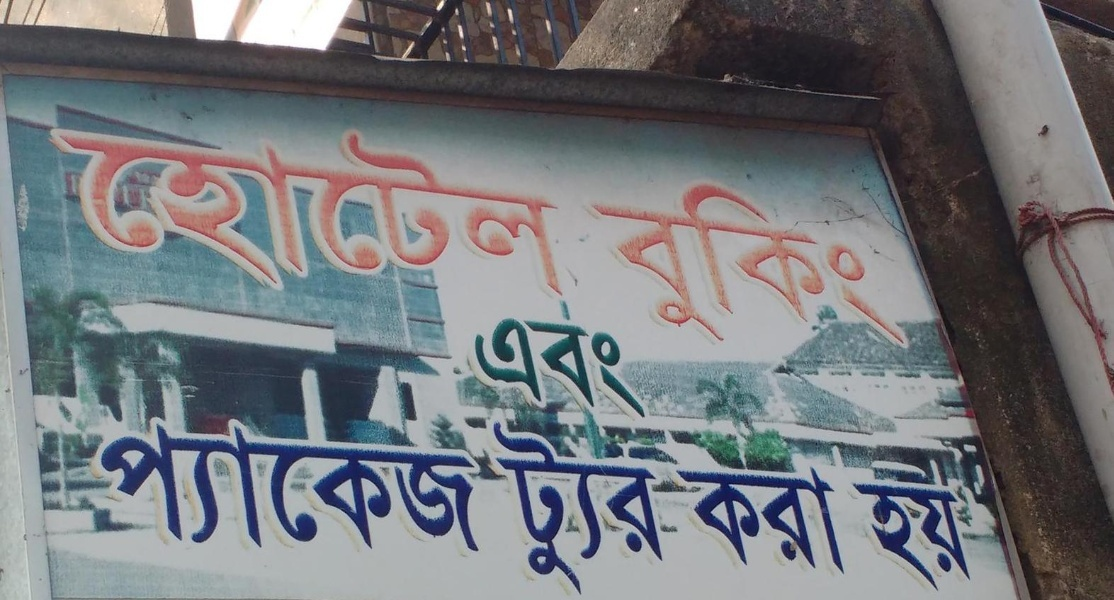text: (593, 161, 608, 354), (609, 161, 624, 354), (625, 161, 640, 354), (641, 161, 656, 354), (657, 161, 672, 354), (673, 161, 688, 354), (689, 161, 704, 354), (705, 161, 720, 354), (721, 161, 736, 354), (737, 161, 752, 354), (753, 161, 768, 354), (769, 161, 784, 354), (785, 161, 800, 354), (801, 161, 816, 354), (817, 161, 832, 354), (833, 161, 848, 354), (849, 161, 864, 354), (865, 161, 880, 354), (881, 161, 896, 354), (897, 161, 912, 354), (497, 413, 512, 598), (513, 413, 528, 598), (529, 413, 544, 598), (545, 413, 560, 598), (561, 413, 576, 598), (577, 413, 592, 598), (593, 413, 608, 598), (609, 413, 624, 598), (625, 413, 640, 598), (641, 413, 656, 598), (49, 119, 64, 303), (65, 119, 80, 303), (81, 119, 96, 303), (97, 119, 112, 303), (113, 119, 128, 303), (129, 119, 144, 303), (145, 119, 160, 303), (161, 119, 176, 303), (177, 119, 192, 303), (193, 119, 208, 303), (209, 119, 224, 303), (225, 119, 240, 303), (241, 119, 256, 303), (257, 119, 272, 303), (273, 119, 288, 303), (289, 119, 304, 303), (305, 119, 320, 303), (321, 119, 336, 303), (337, 119, 352, 303), (353, 119, 368, 303), (369, 119, 384, 303), (385, 119, 400, 303), (401, 119, 416, 303), (417, 119, 432, 303), (433, 119, 448, 303), (449, 119, 464, 303), (465, 119, 480, 303), (481, 119, 496, 303), (497, 119, 512, 303), (513, 119, 528, 303), (529, 119, 544, 303), (545, 119, 560, 303), (579, 161, 592, 354), (657, 413, 669, 598), (97, 416, 112, 559), (113, 416, 128, 559), (129, 416, 144, 559), (145, 416, 160, 559), (161, 416, 176, 559), (177, 416, 192, 559), (193, 416, 208, 559), (209, 416, 224, 559), (225, 416, 240, 559), (241, 416, 256, 559), (257, 416, 272, 559), (273, 416, 288, 559), (289, 416, 304, 559), (305, 416, 320, 559), (321, 416, 336, 559), (337, 416, 352, 559), (353, 416, 368, 559), (369, 416, 384, 559), (385, 416, 400, 559), (401, 416, 416, 559), (417, 416, 432, 559), (433, 416, 448, 559), (449, 416, 464, 559), (465, 416, 480, 559), (561, 119, 572, 303), (689, 462, 704, 583), (705, 462, 720, 583), (721, 462, 736, 583), (737, 462, 752, 583), (753, 462, 768, 583), (769, 462, 784, 583), (785, 462, 800, 583), (801, 462, 816, 583), (817, 462, 832, 583), (833, 462, 848, 583), (849, 462, 864, 583), (641, 312, 657, 425), (849, 479, 864, 593), (865, 479, 880, 593), (881, 479, 896, 593), (897, 479, 912, 593), (913, 479, 928, 593), (929, 479, 944, 593), (945, 479, 960, 593), (961, 479, 976, 593), (465, 312, 480, 425), (481, 312, 496, 425), (497, 312, 512, 425), (513, 312, 528, 425), (529, 312, 544, 425), (545, 312, 560, 425), (561, 312, 576, 425), (577, 312, 592, 425), (593, 312, 608, 425), (609, 312, 624, 425), (625, 312, 640, 425), (674, 462, 688, 583), (487, 413, 496, 598), (977, 479, 984, 593), (481, 416, 485, 559), (93, 416, 96, 559), (913, 161, 915, 354), (46, 119, 48, 303), (865, 462, 866, 583)
